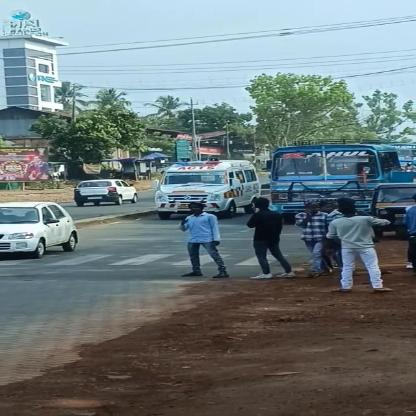priority: (155, 158, 257, 214)
